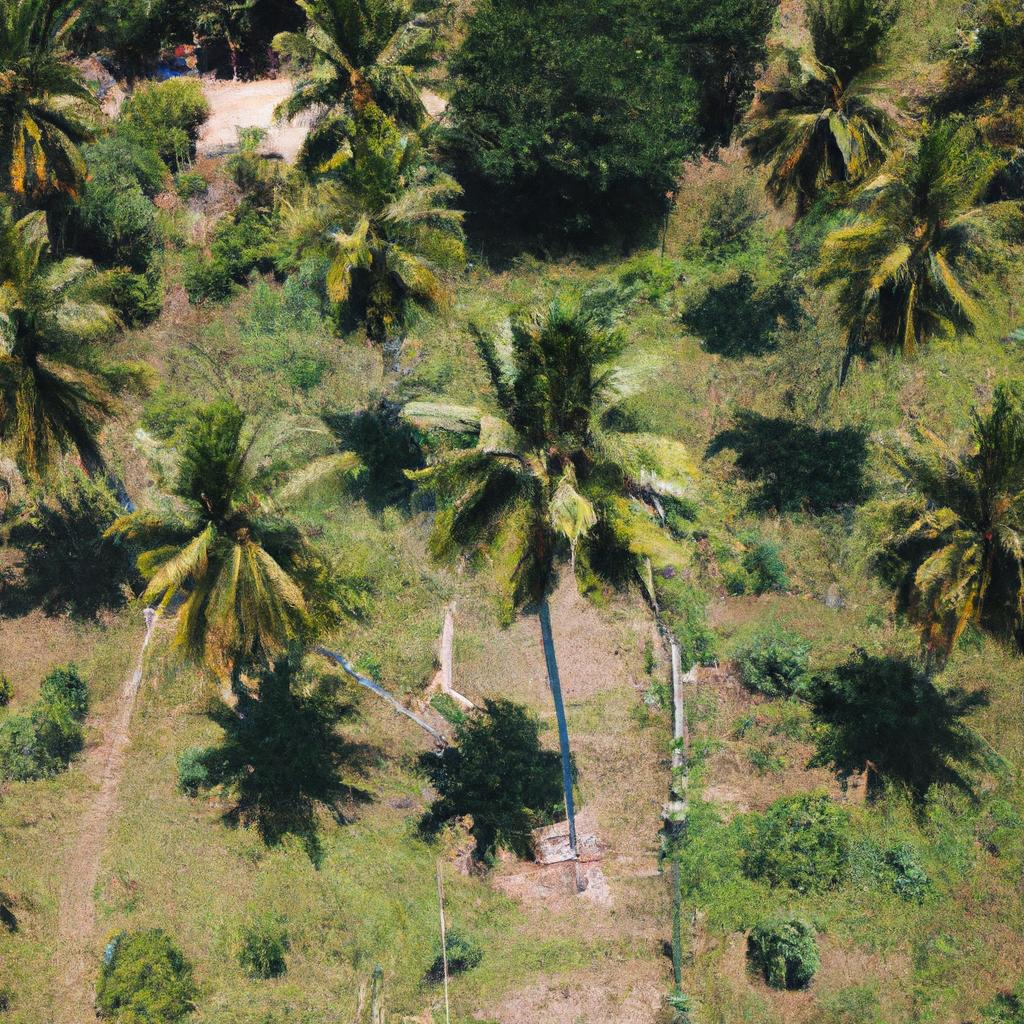coconut_tree: (393, 324, 757, 650), (111, 386, 359, 701), (809, 108, 1012, 351), (266, 0, 493, 154)
